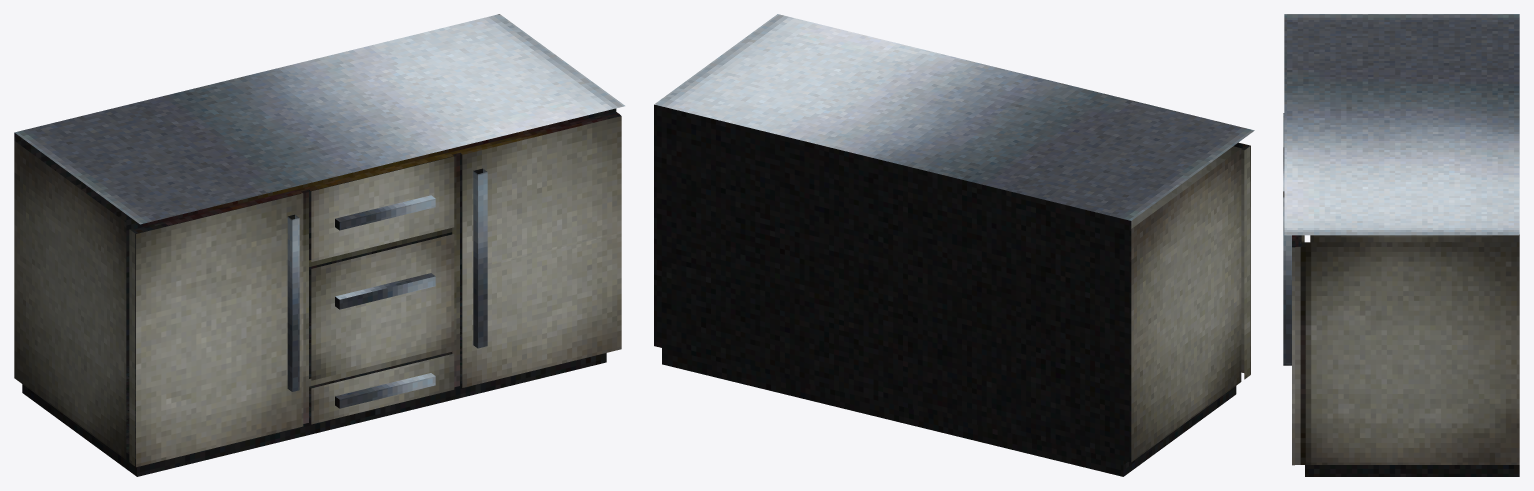
The model's file is Counter.fbx.
3 views of the same model, side by side, from view 1: azimuth 30°, elevation 25°; view 2: azimuth 150°, elevation 25°; view 3: azimuth 270°, elevation 25° (orthographic). The views are drawn at different scales.
Parts seen in each view (by area): view 1: Cube.001; view 2: Cube.001; view 3: Cube.001.
Part boxes in pixels (x1=…): Cube.001: x1=14, y1=14, x2=624, y2=476; Cube.001: x1=654, y1=14, x2=1254, y2=476; Cube.001: x1=1283, y1=14, x2=1519, y2=476.
Bounding box in the file's own units: 1220 × 630 × 550.
